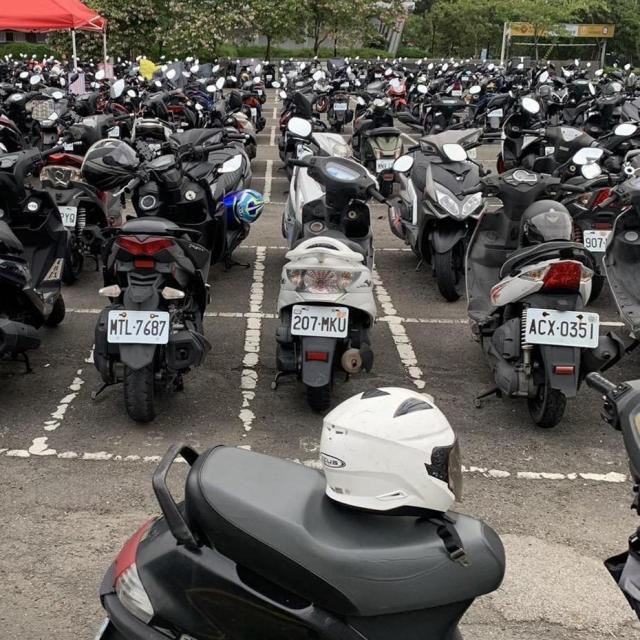W: (522, 305, 604, 350), (104, 305, 174, 347), (285, 299, 353, 342), (576, 225, 620, 253)
